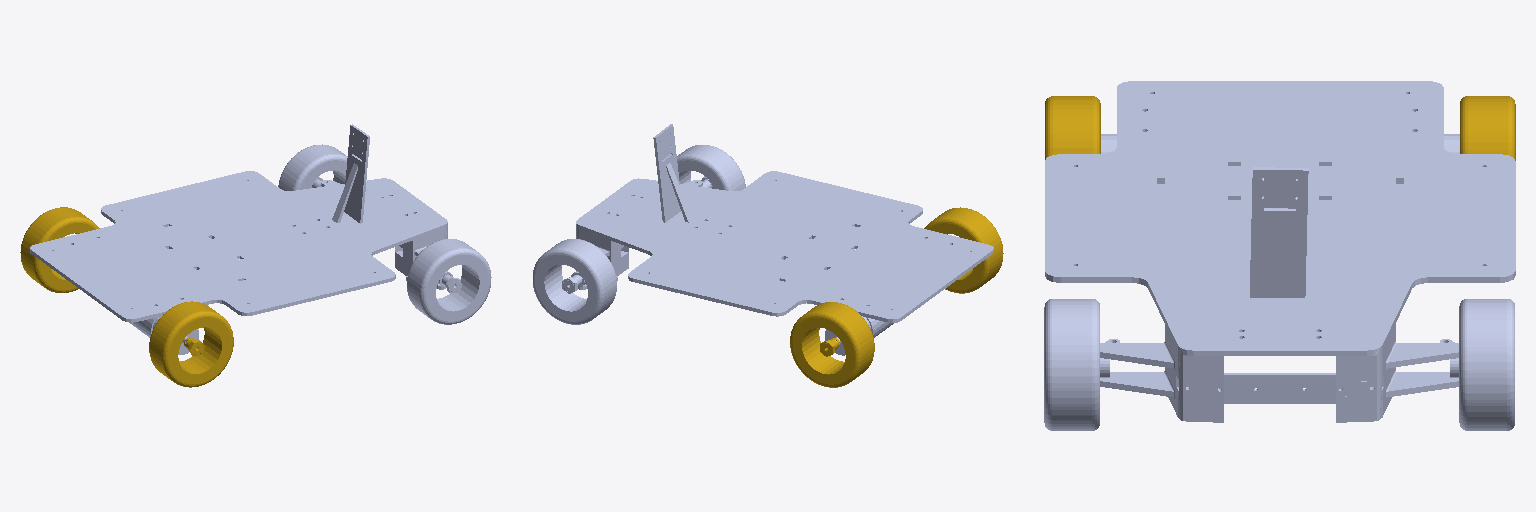
The robot description file, URDF, robot "autonomous_car":
<?xml version="1.0" encoding="utf-8"?>
<!-- Autonomous Car URDF — Modified from SolidWorks export
     Changes from original:
     1. Mesh paths updated to package://robot_bringup/meshes/
     2. Front knuckle joints changed from continuous → revolute with ±0.6 rad limits
     3. Front wheel joints have near-zero friction (free-spinning, no motor)
     4. Gazebo Harmonic plugins added for Ackermann steering + sensors
     FIX v2: All 4 wheel axes aligned to "0 0 1" (no more reverse spin)
     FIX v3: All 4 wheel COLLISIONS changed from mesh → cylinder (smooth rolling)
             right_front VISUAL restored to mesh (was accidentally cylinder)
-->
<robot name="autonomous_car">

  <!-- ============================================================== -->
  <!--  BASE LINK (chassis + motors + rack + servo — all fixed parts) -->
  <!-- ============================================================== -->
  <link name="base_link">
    <inertial>
      <origin xyz="-0.000231100476171808 6.21990214888513E-09 -0.0148754815796431" rpy="0 0 0"/>
      <mass value="0.723731533085621"/>
      <inertia ixx="0.00273550214547189" ixy="-4.84629719487281E-10" ixz="0.00048548168745002"
               iyy="0.00771136853796671" iyz="1.27964592506478E-10"  izz="0.0102201832153108"/>
    </inertial>
    <visual>
      <origin xyz="0 0 0" rpy="0 0 0"/>
      <geometry>
        <mesh filename="package://robot_bringup/meshes/base_link.STL"/>
      </geometry>
      <material name="chassis_grey">
        <color rgba="0.792 0.820 0.933 1"/>
      </material>
    </visual>
    <collision>
      <origin xyz="0 0 0" rpy="0 0 0"/>
      <geometry>
        <mesh filename="package://robot_bringup/meshes/base_link.STL"/>
      </geometry>
    </collision>
  </link>

  <!-- ============================================================== -->
  <!--  LEFT REAR WHEEL (powered — continuous joint)                  -->
  <!-- ============================================================== -->
  <link name="left_rear">
    <inertial>
      <origin xyz="3.10904498124209E-06 5.37279659429402E-06 -0.0120230697296975" rpy="0 0 0"/>
      <mass value="0.126363111272001"/>
      <inertia ixx="7.94253978332532E-05" ixy="1.60497325337193E-09" ixz="2.88800419661742E-09"
               iyy="7.94272648265278E-05" iyz="5.03999377505508E-09"  izz="0.00013565032153422"/>
    </inertial>
    <visual>
      <origin xyz="0 0 0" rpy="0 0 0"/>
      <geometry>
        <mesh filename="package://robot_bringup/meshes/left_rear.STL"/>
      </geometry>
      <material name="wheel_gold">
        <color rgba="0.827 0.667 0.129 1"/>
      </material>
    </visual>
    <!-- FIX: cylinder collision instead of mesh for smooth rolling -->
    <collision>
      <origin xyz="0 0 0" rpy="0 0 0"/>
      <geometry>
        <cylinder radius="0.047" length="0.03"/>
      </geometry>
    </collision>
  </link>
  <joint name="leftrear" type="continuous">
    <origin xyz="-0.131112109546006 0.142499999999999 -0.028999999999994" rpy="-1.5707963267949 0 0"/>
    <parent link="base_link"/>
    <child  link="left_rear"/>
    <axis   xyz="0 0 1"/>
    <limit  effort="10" velocity="100"/>
    <dynamics damping="0.01" friction="0.01"/>
  </joint>

  <!-- ============================================================== -->
  <!--  RIGHT REAR WHEEL (powered — continuous joint)                 -->
  <!-- ============================================================== -->
  <link name="right_rear">
    <inertial>
      <origin xyz="5.37279659434953E-06 3.10904498124209E-06 0.0120230697296975" rpy="0 0 0"/>
      <mass value="0.126363111272001"/>
      <inertia ixx="7.94272648265279E-05" ixy="1.6049732533684E-09"  ixz="-5.03999377510644E-09"
               iyy="7.94253978332533E-05" iyz="-2.88800419664162E-09" izz="0.00013565032153422"/>
    </inertial>
    <visual>
      <origin xyz="0 0 0" rpy="0 0 0"/>
      <geometry>
        <mesh filename="package://robot_bringup/meshes/right_rear.STL"/>
      </geometry>
      <material name="wheel_gold">
        <color rgba="0.827 0.667 0.129 1"/>
      </material>
    </visual>
    <!-- FIX: cylinder collision instead of mesh for smooth rolling -->
    <collision>
      <origin xyz="0 0 0" rpy="0 0 0"/>
      <geometry>
        <cylinder radius="0.047" length="0.03"/>
      </geometry>
    </collision>
  </link>
  <joint name="rightrear" type="continuous">
    <origin xyz="-0.131112109546005 -0.142499999999999 -0.0289999999999937" rpy="-1.5707963267949 0 0"/>
    <parent link="base_link"/>
    <child  link="right_rear"/>
    <axis   xyz="0 0 1"/>
    <limit  effort="10" velocity="100"/>
    <dynamics damping="0.01" friction="0.01"/>
  </joint>

  <!-- ============================================================== -->
  <!--  LEFT FRONT KNUCKLE (steering — REVOLUTE with limits)          -->
  <!-- ============================================================== -->
  <link name="left_front_knuckle">
    <inertial>
      <origin xyz="-0.0069195085927054 -0.00186567476953692 7.17221471102647E-09" rpy="0 0 0"/>
      <mass value="0.0030084981775693"/>
      <inertia ixx="1.25491838679359E-07" ixy="-1.00786553248517E-07" ixz="-1.81410099511428E-13"
               iyy="3.82810606265697E-07" iyz="-2.84698744470842E-14"  izz="4.2336400843231E-07"/>
    </inertial>
    <visual>
      <origin xyz="0 0 0" rpy="0 0 0"/>
      <geometry>
        <mesh filename="package://robot_bringup/meshes/left_front_knuckle.STL"/>
      </geometry>
      <material name="chassis_grey">
        <color rgba="0.792 0.820 0.933 1"/>
      </material>
    </visual>
    <collision>
      <origin xyz="0 0 0" rpy="0 0 0"/>
      <geometry>
        <mesh filename="package://robot_bringup/meshes/left_front_knuckle.STL"/>
      </geometry>
    </collision>
  </link>
  <joint name="leftfrontknuckle" type="revolute">
    <origin xyz="0.169376641305686 0.11535109122836 -0.029000000051664" rpy="0 0 0"/>
    <parent link="base_link"/>
    <child  link="left_front_knuckle"/>
    <axis   xyz="0 0 1"/>
    <limit  effort="10" velocity="5" lower="-0.6" upper="0.6"/>
    <dynamics damping="0.1" friction="0.1"/>
  </joint>

  <!-- ============================================================== -->
  <!--  LEFT FRONT WHEEL (free-spinning — child of knuckle)           -->
  <!-- ============================================================== -->
  <link name="left_front">
    <inertial>
      <origin xyz="-0.00986676609693737 5.24995502093617E-06 -0.0101569567833888" rpy="0 0 0"/>
      <mass value="0.126363111272001"/>
      <inertia ixx="7.94255405774487E-05" ixy="-1.67990050048856E-09" ixz="-3.1203197493381E-09"
               iyy="7.94271220823325E-05" iyz="4.89956224317293E-09"   izz="0.00013565032153422"/>
    </inertial>
    <visual>
      <origin xyz="0 0 0" rpy="0 0 0"/>
      <geometry>
        <mesh filename="package://robot_bringup/meshes/left_front.STL"/>
      </geometry>
      <material name="chassis_grey">
        <color rgba="0.792 0.820 0.933 1"/>
      </material>
    </visual>
    <!-- FIX: cylinder collision instead of mesh for smooth rolling -->
    <collision>
      <origin xyz="0 0 0" rpy="0 0 0"/>
      <geometry>
        <cylinder radius="0.047" length="0.03"/>
      </geometry>
    </collision>
  </link>
  <joint name="leftfront" type="continuous">
    <origin xyz="0 0.0269999888036119 0" rpy="-1.5707963267949 0 0"/>
    <parent link="left_front_knuckle"/>
    <child  link="left_front"/>
    <axis   xyz="0 0 1"/>
    <limit  effort="0" velocity="100"/>
    <dynamics damping="0.001" friction="0.0"/>
  </joint>

  <!-- ============================================================== -->
  <!--  RIGHT FRONT KNUCKLE (steering — REVOLUTE with limits)         -->
  <!-- ============================================================== -->
  <link name="right_front_knuckle">
    <inertial>
      <origin xyz="-0.00687145694189439 0.0022731090372714 -7.17204329259147E-09" rpy="0 0 0"/>
      <mass value="0.00300849817756922"/>
      <inertia ixx="1.25491838679379E-07" ixy="1.00786553248544E-07" ixz="1.81410096406909E-13"
               iyy="3.82810606265668E-07" iyz="-2.8469873122496E-14"  izz="4.23364008432305E-07"/>
    </inertial>
    <visual>
      <origin xyz="0 0 0" rpy="0 0 0"/>
      <geometry>
        <mesh filename="package://robot_bringup/meshes/right_front_knuckle.STL"/>
      </geometry>
      <material name="chassis_grey">
        <color rgba="0.792 0.820 0.933 1"/>
      </material>
    </visual>
    <collision>
      <origin xyz="0 0 0" rpy="0 0 0"/>
      <geometry>
        <mesh filename="package://robot_bringup/meshes/right_front_knuckle.STL"/>
      </geometry>
    </collision>
  </link>
  <joint name="rightfrontknuckle" type="revolute">
    <origin xyz="0.169328589654865 -0.115758525496169 -0.0289999999484927" rpy="0 0 0"/>
    <parent link="base_link"/>
    <child  link="right_front_knuckle"/>
    <axis   xyz="0 0 1"/>
    <limit  effort="10" velocity="5" lower="-0.6" upper="0.6"/>
    <dynamics damping="0.1" friction="0.1"/>
  </joint>

  <!-- ============================================================== -->
  <!--  RIGHT FRONT WHEEL (free-spinning — child of knuckle)          -->
  <!-- ============================================================== -->
  <link name="right_front">
    <inertial>
      <origin xyz="0.0117938008072664 1.35946038248846E-06 0.00930811369012874" rpy="0 0 0"/>
      <mass value="0.126363111272"/>
      <inertia ixx="7.9428005805697E-05"  ixy="-8.02175722455012E-10" ixz="5.66233699547274E-09"
               iyy="7.94246568540842E-05" iyz="-1.29616563650809E-09"  izz="0.00013565032153422"/>
    </inertial>
    <!-- FIX: visual restored to mesh (was accidentally set to cylinder) -->
    <visual>
      <origin xyz="0 0 0" rpy="0 0 0"/>
      <geometry>
        <mesh filename="package://robot_bringup/meshes/right_front.STL"/>
      </geometry>
      <material name="chassis_grey">
        <color rgba="0.792 0.820 0.933 1"/>
      </material>
    </visual>
    <!-- FIX: cylinder collision instead of mesh for smooth rolling -->
    <collision>
      <origin xyz="0 0 0" rpy="0 0 0"/>
      <geometry>
        <cylinder radius="0.047" length="0.03"/>
      </geometry>
    </collision>
  </link>
  <joint name="rightfront" type="continuous">
    <origin xyz="0 -0.027 0" rpy="-1.5707963267949 0 0"/>
    <parent link="right_front_knuckle"/>
    <child  link="right_front"/>
    <axis   xyz="0 0 1"/>
    <limit  effort="0" velocity="100"/>
    <dynamics damping="0.001" friction="0.0"/>
  </joint>

  <!-- ============================================================== -->
  <!--  CAMERA LINK (fixed to chassis)                                -->
  <!-- ============================================================== -->
  <link name="camera_link">
    <inertial>
      <origin xyz="-0.0135378287901173 0 -0.0353920751414981" rpy="0 0 0"/>
      <mass value="0.0206168866869791"/>
      <inertia ixx="3.30124777543458E-05" ixy="0" ixz="-9.30896580437687E-06"
               iyy="3.63405838134579E-05" iyz="0"  izz="7.02199919189421E-06"/>
    </inertial>
    <visual>
      <origin xyz="0 0 0" rpy="0 0 0"/>
      <geometry>
        <mesh filename="package://robot_bringup/meshes/camera_link.STL"/>
      </geometry>
      <material name="chassis_grey">
        <color rgba="0.792 0.820 0.933 1"/>
      </material>
    </visual>
    <collision>
      <origin xyz="0 0 0" rpy="0 0 0"/>
      <geometry>
        <mesh filename="package://robot_bringup/meshes/camera_link.STL"/>
      </geometry>
    </collision>
  </link>
  <joint name="cameralink" type="fixed">
    <origin xyz="0.141101715153465 0 0.0795664425483641" rpy="0 0 0"/>
    <parent link="base_link"/>
    <child  link="camera_link"/>
  </joint>

  <!-- ============================================================== -->
  <!--  TOF LEFT SENSOR LINK (fixed to chassis)                       -->
  <!-- ============================================================== -->
  <link name="tofL_link">
    <inertial>
      <origin xyz="0.000498097349045712 4.35778713738788E-05 0" rpy="0 0 0"/>
      <mass value="0.000175927587113891"/>
      <inertia ixx="6.68861872319417E-09" ixy="4.69777437094648E-10" ixz="0"
               iyy="1.36013824667135E-09" iyz="0"  izz="5.44000214129389E-09"/>
    </inertial>
    <visual>
      <origin xyz="0 0 0" rpy="0 0 0"/>
      <geometry>
        <mesh filename="package://robot_bringup/meshes/tofL_link.STL"/>
      </geometry>
      <material name="chassis_grey">
        <color rgba="0.792 0.820 0.933 1"/>
      </material>
    </visual>
    <collision>
      <origin xyz="0 0 0" rpy="0 0 0"/>
      <geometry>
        <mesh filename="package://robot_bringup/meshes/tofL_link.STL"/>
      </geometry>
    </collision>
  </link>
  <joint name="tofLlink" type="fixed">
    <origin xyz="0.209266648376749 0.0478158555869712 -0.0270000000000002" rpy="0 0 0"/>
    <parent link="base_link"/>
    <child  link="tofL_link"/>
  </joint>

  <!-- ============================================================== -->
  <!--  TOF RIGHT SENSOR LINK (fixed to chassis)                      -->
  <!-- ============================================================== -->
  <link name="tofR_link">
    <inertial>
      <origin xyz="0.000498097349045268 -4.35778713743229E-05 0" rpy="0 0 0"/>
      <mass value="0.000175927587113894"/>
      <inertia ixx="6.68861872319439E-09" ixy="-4.69777437094656E-10" ixz="0"
               iyy="1.36013824667135E-09" iyz="0"  izz="5.44000214129411E-09"/>
    </inertial>
    <visual>
      <origin xyz="0 0 0" rpy="0 0 0"/>
      <geometry>
        <mesh filename="package://robot_bringup/meshes/tofR_link.STL"/>
      </geometry>
      <material name="chassis_grey">
        <color rgba="0.792 0.820 0.933 1"/>
      </material>
    </visual>
    <collision>
      <origin xyz="0 0 0" rpy="0 0 0"/>
      <geometry>
        <mesh filename="package://robot_bringup/meshes/tofR_link.STL"/>
      </geometry>
    </collision>
  </link>
  <joint name="tofRlink" type="fixed">
    <origin xyz="0.209266648376749 -0.0478158555869701 -0.0270000000000002" rpy="0 0 0"/>
    <parent link="base_link"/>
    <child  link="tofR_link"/>
  </joint>

  <!-- ============================================================== -->
  <!--  LIDAR LINK (fixed to chassis)                                 -->
  <!-- ============================================================== -->
  <link name="lidar_link">
    <inertial>
      <origin xyz="0.00249999999999984 0 0" rpy="0 0 0"/>
      <mass value="0.00149999999999999"/>
      <inertia ixx="7.81249999999993E-08" ixy="0" ixz="0"
               iyy="3.12499999999995E-08" iyz="0"  izz="5.31249999999998E-08"/>
    </inertial>
    <visual>
      <origin xyz="0 0 0" rpy="0 0 0"/>
      <geometry>
        <mesh filename="package://robot_bringup/meshes/lidar_link.STL"/>
      </geometry>
      <material name="chassis_grey">
        <color rgba="0.792 0.820 0.933 1"/>
      </material>
    </visual>
    <collision>
      <origin xyz="0 0 0" rpy="0 0 0"/>
      <geometry>
        <mesh filename="package://robot_bringup/meshes/lidar_link.STL"/>
      </geometry>
    </collision>
  </link>
  <joint name="lidarlink" type="fixed">
    <origin xyz="0.210387890453994 0 -0.0270000000000002" rpy="0 0 0"/>
    <parent link="base_link"/>
    <child  link="lidar_link"/>
  </joint>

  <!-- ============================================================== -->
  <!--  GAZEBO MATERIAL COLORS                                        -->
  <!-- ============================================================== -->
  <gazebo reference="base_link">
    <material>Gazebo/Grey</material>
  </gazebo>
  <gazebo reference="left_rear">
    <material>Gazebo/DarkGrey</material>
    <mu1>1.5</mu1>
    <mu2>1.5</mu2>
    <kp>1e6</kp>
    <kd>100</kd>
    <minDepth>0.001</minDepth>
  </gazebo>
  <gazebo reference="right_rear">
    <material>Gazebo/DarkGrey</material>
    <mu1>1.5</mu1>
    <mu2>1.5</mu2>
    <kp>1e6</kp>
    <kd>100</kd>
    <minDepth>0.001</minDepth>
  </gazebo>
  <gazebo reference="left_front">
    <material>Gazebo/DarkGrey</material>
    <mu1>1.5</mu1>
    <mu2>1.5</mu2>
    <kp>1e6</kp>
    <kd>100</kd>
    <minDepth>0.001</minDepth>
  </gazebo>
  <gazebo reference="right_front">
    <material>Gazebo/DarkGrey</material>
    <mu1>1.5</mu1>
    <mu2>1.5</mu2>
    <kp>1e6</kp>
    <kd>100</kd>
    <minDepth>0.001</minDepth>
  </gazebo>
  <gazebo reference="camera_link">
    <material>Gazebo/Black</material>
  </gazebo>

  <!-- ============================================================== -->
  <!--  GAZEBO PLUGINS (Harmonic / gz-sim 8)                          -->
  <!-- ============================================================== -->

  <gazebo>
    <plugin filename="gz-sim-joint-state-publisher-system"
            name="gz::sim::systems::JointStatePublisher">
      <joint_name>leftrear</joint_name>
      <joint_name>rightrear</joint_name>
      <joint_name>leftfrontknuckle</joint_name>
      <joint_name>rightfrontknuckle</joint_name>
      <joint_name>leftfront</joint_name>
      <joint_name>rightfront</joint_name>
    </plugin>
  </gazebo>

  <gazebo>
    <plugin filename="gz-sim-ackermann-steering-system"
            name="gz::sim::systems::AckermannSteering">
      <left_joint>leftrear</left_joint>
      <right_joint>rightrear</right_joint>
      <left_steering_joint>leftfrontknuckle</left_steering_joint>
      <right_steering_joint>rightfrontknuckle</right_steering_joint>
      <wheel_base>0.3005</wheel_base>
      <wheel_separation>0.285</wheel_separation>
      <kingpin_width>0.2311</kingpin_width>
      <steering_limit>0.6</steering_limit>
      <wheel_radius>0.047</wheel_radius>
      <min_velocity>-1.0</min_velocity>
      <max_velocity>1.0</max_velocity>
      <min_acceleration>-3.0</min_acceleration>
      <max_acceleration>3.0</max_acceleration>
      <topic>cmd_vel</topic>
      <odom_topic>odom</odom_topic>
      <tf_topic>tf</tf_topic>
      <frame_id>odom</frame_id>
      <child_frame_id>base_link</child_frame_id>
      <odom_publish_frequency>50</odom_publish_frequency>
    </plugin>
  </gazebo>

  <!-- ============================================================ -->
  <!-- TF-LUNA LiDAR — 1D Ray Sensor (Gazebo Harmonic)             -->
  <!-- ============================================================ -->
  <gazebo reference="lidar_link">
    <sensor name="tf_luna_lidar" type="gpu_lidar">
      <pose>0 0 0 0 0 0</pose>
      <always_on>true</always_on>
      <visualize>true</visualize>
      <update_rate>10</update_rate>
      <ray>
        <scan>
          <horizontal>
            <samples>1</samples>
            <resolution>1</resolution>
            <min_angle>0.0</min_angle>
            <max_angle>0.0</max_angle>
          </horizontal>
        </scan>
        <range>
          <min>0.2</min>
          <max>8.0</max>
          <resolution>0.001</resolution>
        </range>
        <noise>
          <type>gaussian</type>
          <mean>0.0</mean>
          <stddev>0.005</stddev>
        </noise>
      </ray>
      <topic>/gz/lidar_range</topic>
    </sensor>
  </gazebo>

  <!-- ============================================================ -->
  <!-- CAMERA — IMX219 8MP (Gazebo Harmonic)                        -->
  <!-- ============================================================ -->
  <gazebo reference="camera_link">
    <sensor name="imx219_camera" type="camera">
      <pose>0 0 0 0 0 0</pose>
      <always_on>true</always_on>
      <visualize>true</visualize>
      <update_rate>30</update_rate>
      <camera name="front_camera">
        <horizontal_fov>1.3962634</horizontal_fov>
        <image>
          <width>640</width>
          <height>480</height>
          <format>R8G8B8</format>
        </image>
        <clip>
          <near>0.02</near>
          <far>15.0</far>
        </clip>
        <noise>
          <type>gaussian</type>
          <mean>0.0</mean>
          <stddev>0.007</stddev>
        </noise>
      </camera>
      <topic>/gz/camera/image</topic>
    </sensor>
  </gazebo>

  <!-- ============================================================ -->
  <!-- VL53L0X LEFT ToF — Short-range obstacle (Gazebo Harmonic)   -->
  <!-- ============================================================ -->
  <gazebo reference="tofL_link">
    <sensor name="tof_left" type="gpu_lidar">
      <pose>0 0 0 0 0 0</pose>
      <always_on>true</always_on>
      <update_rate>10</update_rate>
      <ray>
        <scan>
          <horizontal>
            <samples>1</samples>
            <resolution>1</resolution>
            <min_angle>0.0</min_angle>
            <max_angle>0.0</max_angle>
          </horizontal>
        </scan>
        <range>
          <min>0.03</min>
          <max>2.0</max>
          <resolution>0.001</resolution>
        </range>
        <noise>
          <type>gaussian</type>
          <mean>0.0</mean>
          <stddev>0.003</stddev>
        </noise>
      </ray>
      <topic>/gz/tof_left</topic>
    </sensor>
  </gazebo>

  <!-- ============================================================ -->
  <!-- VL53L0X RIGHT ToF — Short-range obstacle (Gazebo Harmonic)  -->
  <!-- ============================================================ -->
  <gazebo reference="tofR_link">
    <sensor name="tof_right" type="gpu_lidar">
      <pose>0 0 0 0 0 0</pose>
      <always_on>true</always_on>
      <update_rate>10</update_rate>
      <ray>
        <scan>
          <horizontal>
            <samples>1</samples>
            <resolution>1</resolution>
            <min_angle>0.0</min_angle>
            <max_angle>0.0</max_angle>
          </horizontal>
        </scan>
        <range>
          <min>0.03</min>
          <max>2.0</max>
          <resolution>0.001</resolution>
        </range>
        <noise>
          <type>gaussian</type>
          <mean>0.0</mean>
          <stddev>0.003</stddev>
        </noise>
      </ray>
      <topic>/gz/tof_right</topic>
    </sensor>
  </gazebo>

</robot>

--- What the picture shows (computed from the rendered views, not written in the file) ---
Views: 3 orthographic renders of the robot side by side, from view 1: azimuth 30°, elevation 25°; view 2: azimuth 150°, elevation 25°; view 3: azimuth 270°, elevation 25°.
Model autonomous_car with 11 links and 10 joints (2 revolute, 4 continuous, 4 fixed), rooted at base_link, posed every joint at zero.
Links seen in each view (by area): view 1: base_link, right_rear, right_front, left_rear, left_front, camera_link; view 2: base_link, left_rear, left_front, right_rear, right_front, camera_link; view 3: base_link, left_front, right_front, camera_link, left_rear, right_rear.
Boxes of the visible links, <box> form: base_link: <box>30,171,447,354</box>; right_rear: <box>149,301,233,387</box>; right_front: <box>407,239,491,324</box>; left_rear: <box>20,207,99,292</box>; left_front: <box>278,144,347,190</box>; camera_link: <box>332,124,369,223</box>; base_link: <box>576,171,993,355</box>; left_rear: <box>790,302,874,387</box>; left_front: <box>533,239,616,324</box>; right_rear: <box>924,207,1003,293</box>; right_front: <box>677,145,745,190</box>; camera_link: <box>653,124,693,222</box>; base_link: <box>1045,81,1515,422</box>; left_front: <box>1459,299,1514,430</box>; right_front: <box>1044,299,1099,430</box>; camera_link: <box>1250,167,1308,297</box>; left_rear: <box>1460,96,1515,160</box>; right_rear: <box>1045,96,1100,159</box>.
Bounding box of the posed robot: 0.4005 × 0.2953 × 0.1644 m (x, y, z).
Meshes: 11 distinct files referenced, 11 mesh visuals loaded (11 binary STL).
